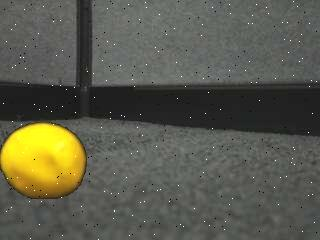Lemon: (1, 122, 90, 201)
